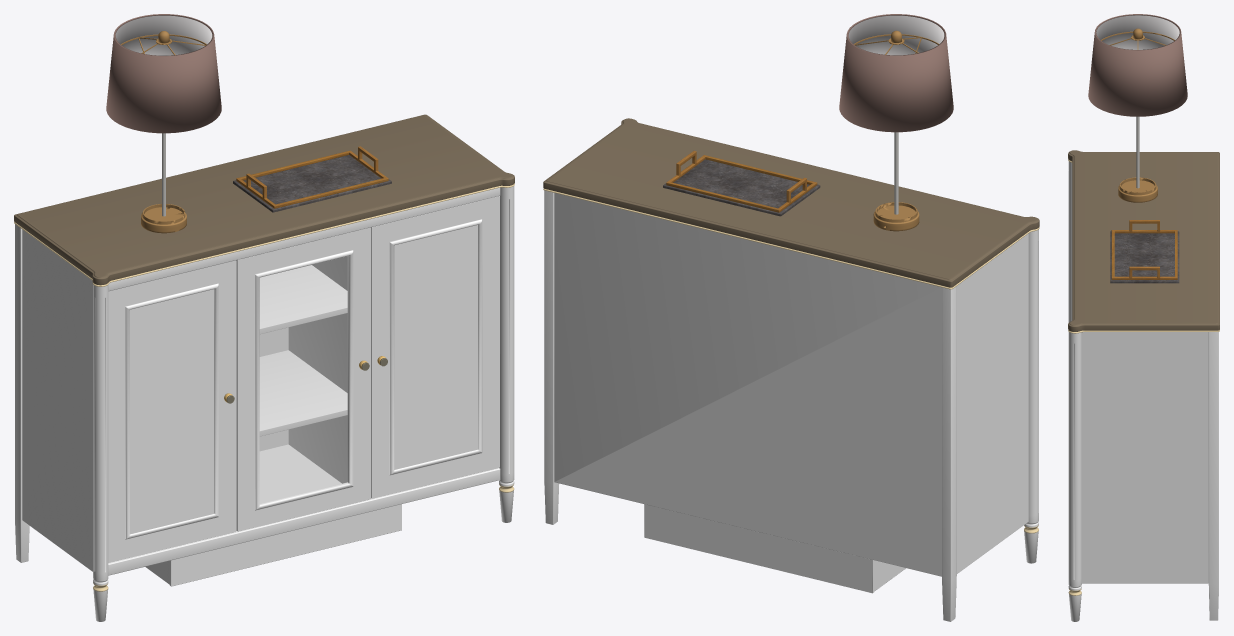
The model's file is sideboard.fbx.
The picture shows the model from 3 angles, left to right: view 1: azimuth 30°, elevation 25°; view 2: azimuth 150°, elevation 25°; view 3: azimuth 270°, elevation 25°; orthographic projection. The views are drawn at different scales.
Visible parts, largest first — view 1: Dinning_SideBoardR.001, Dinning_TableLampR.001, Dinning_TablePlate.001; view 2: Dinning_SideBoardR.001, Dinning_TableLampR.001, Dinning_TablePlate.001; view 3: Dinning_SideBoardR.001, Dinning_TableLampR.001, Dinning_TablePlate.001.
Part boxes in pixels (x1,y1,x2,y2): Dinning_SideBoardR.001: (14, 114, 514, 621); Dinning_TableLampR.001: (106, 14, 221, 233); Dinning_TablePlate.001: (233, 146, 391, 212); Dinning_SideBoardR.001: (543, 118, 1039, 621); Dinning_TableLampR.001: (839, 14, 953, 231); Dinning_TablePlate.001: (663, 151, 820, 216); Dinning_SideBoardR.001: (1068, 150, 1219, 621); Dinning_TableLampR.001: (1088, 14, 1187, 202); Dinning_TablePlate.001: (1110, 220, 1179, 283).
Bounding box in the file's own units: 557 × 682 × 203.
